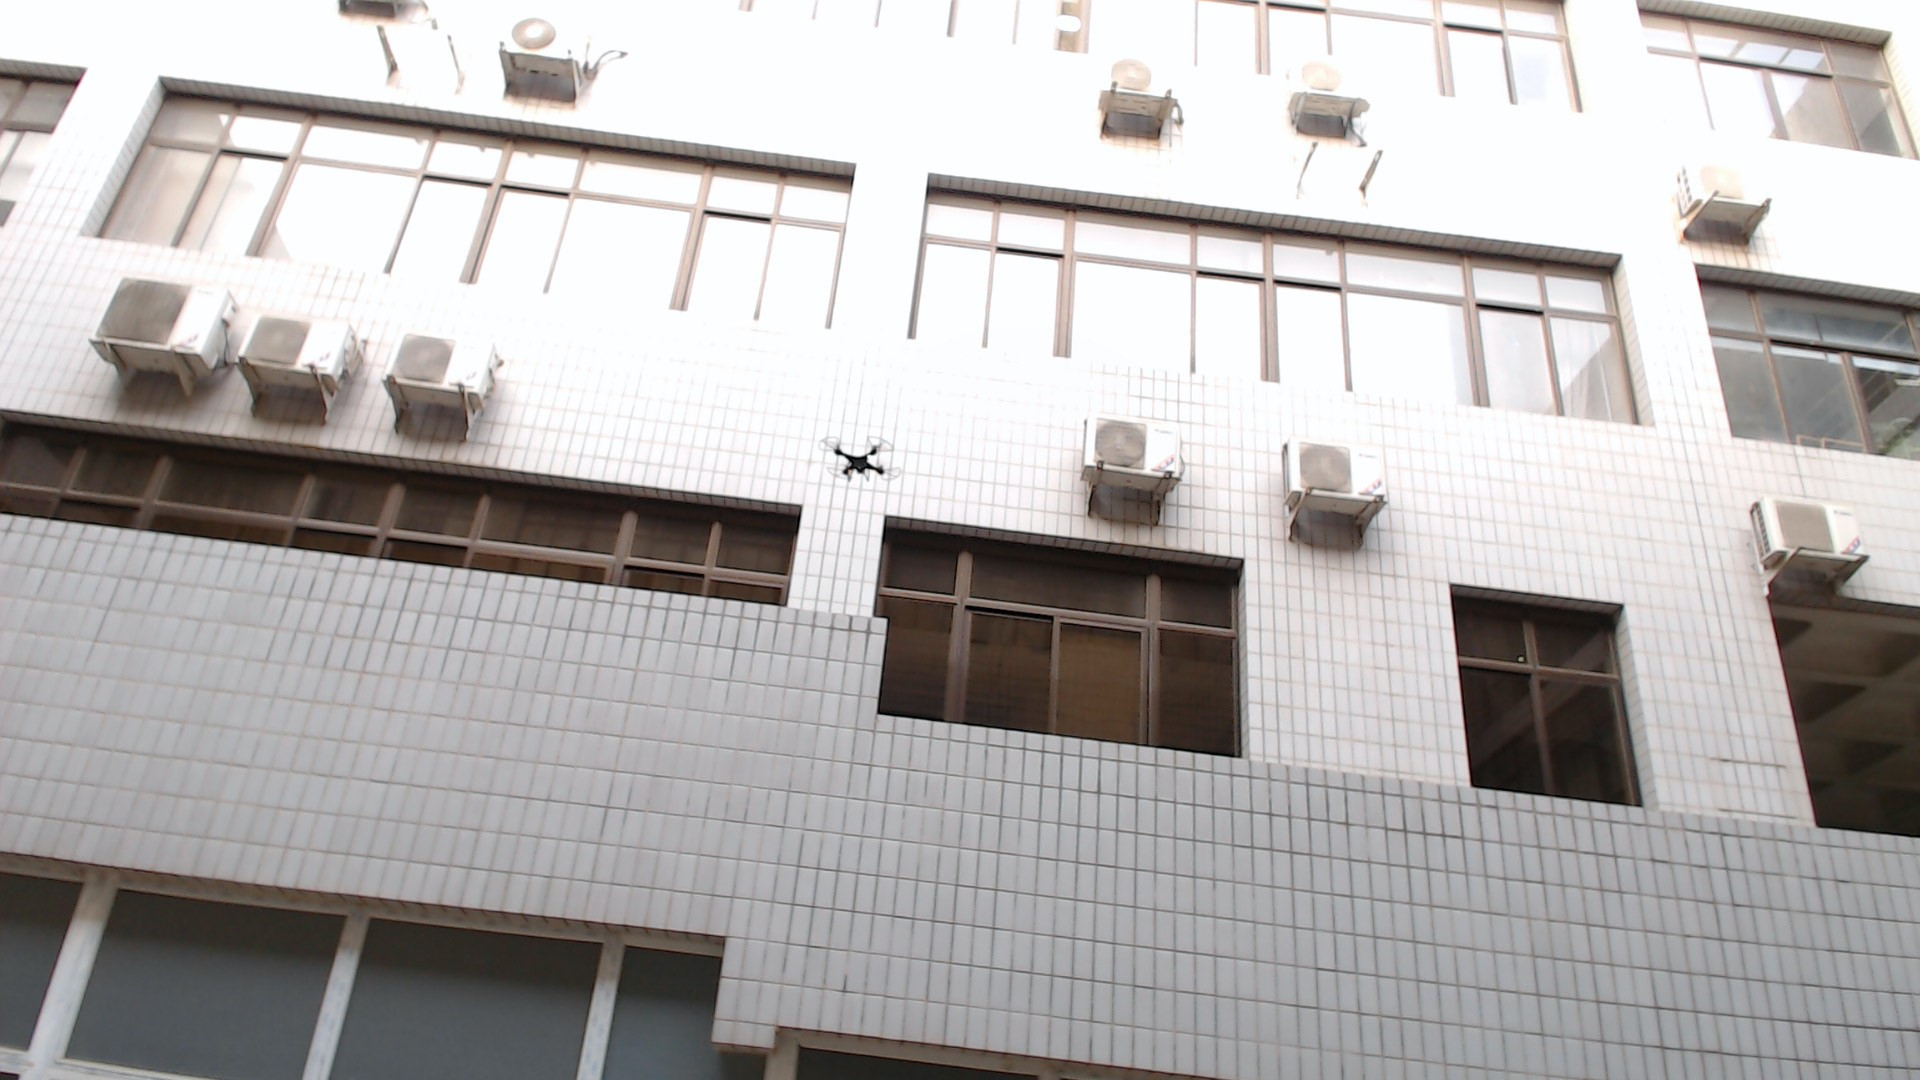drone: (799, 413, 919, 502)
